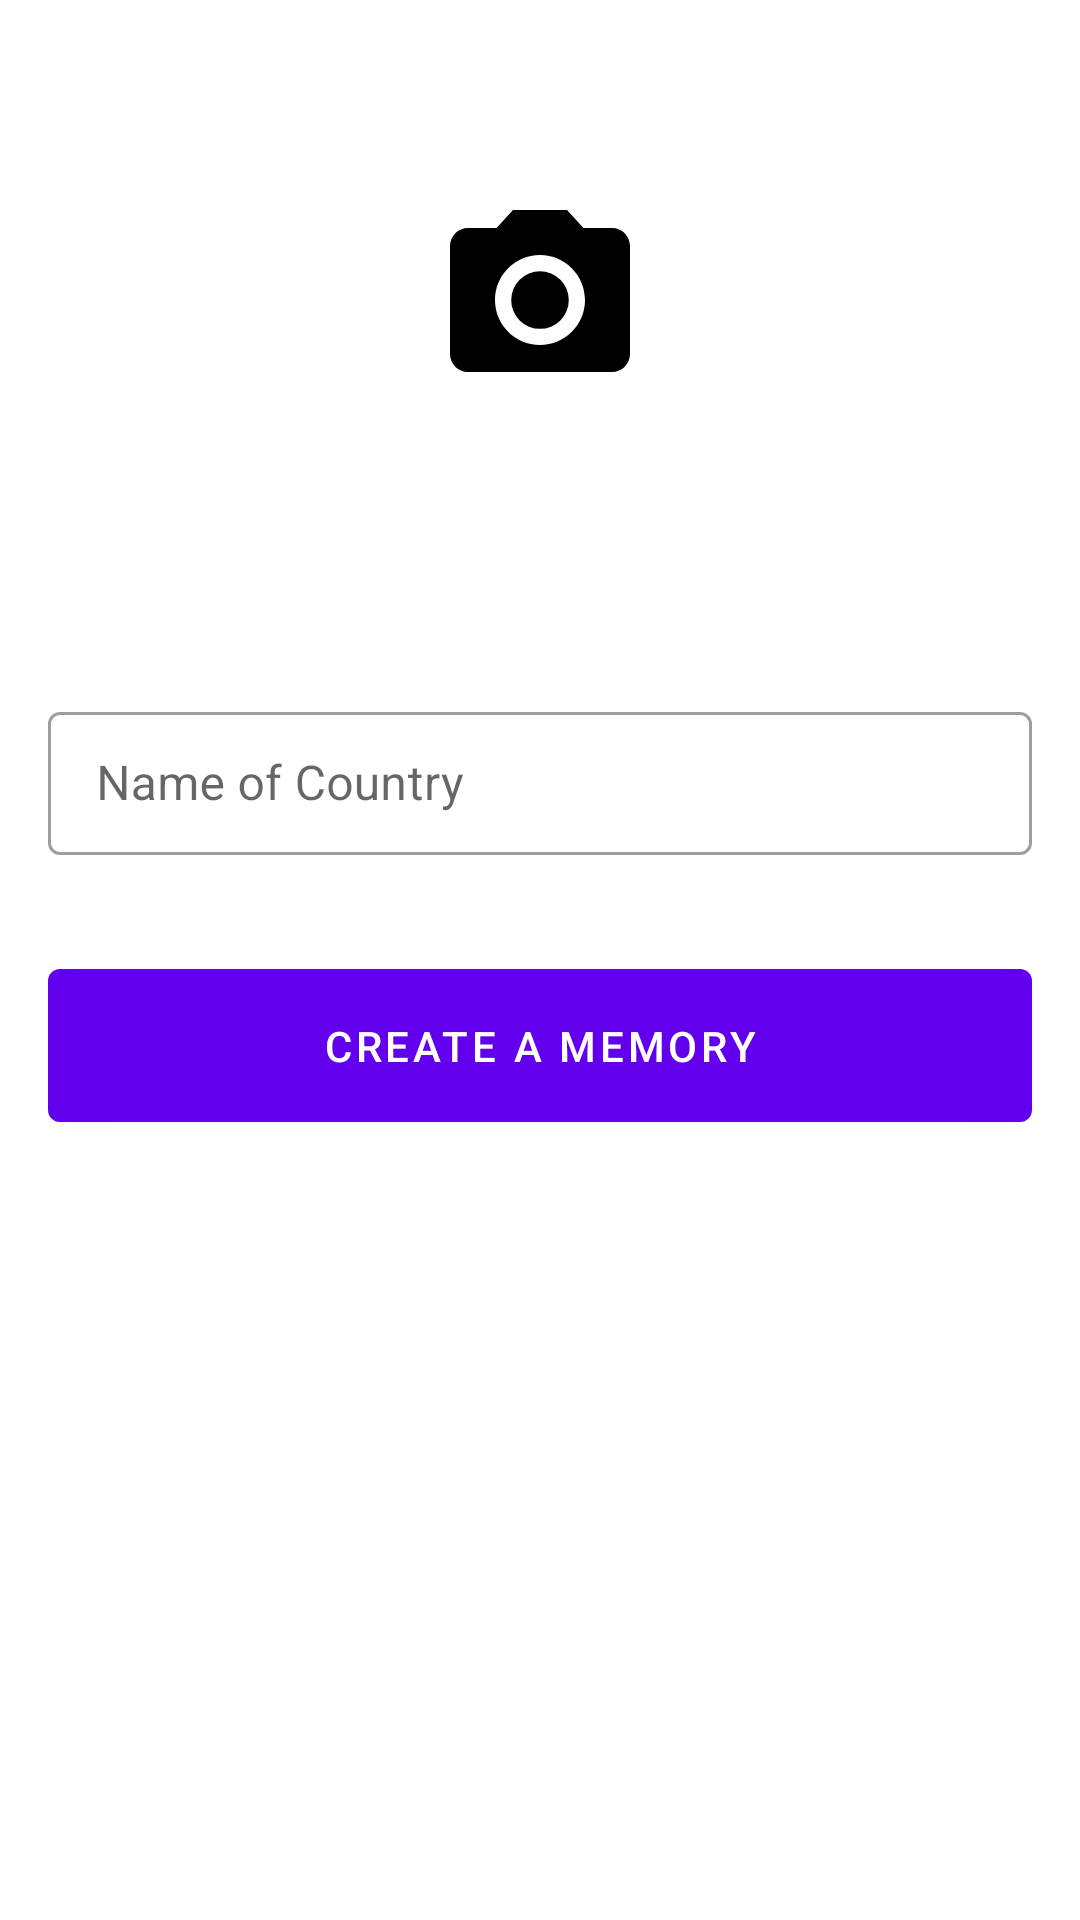

Screen size 1080px×1920px. Icon name, then its center in pixels as point (x, y):
Click to add an image of a place: point (540, 291)
